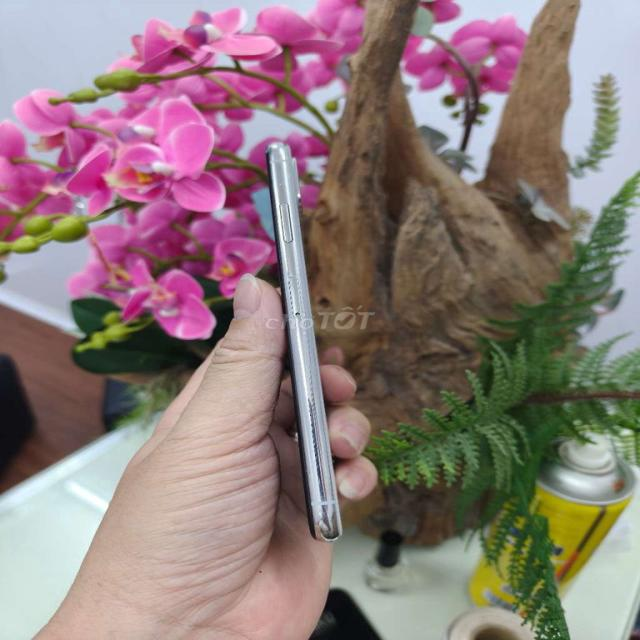gen_x_xs: (249, 135, 348, 548)
